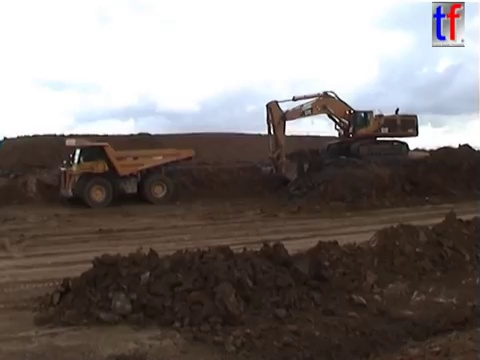excavator: (263, 88, 419, 183)
truck: (58, 136, 195, 209)
